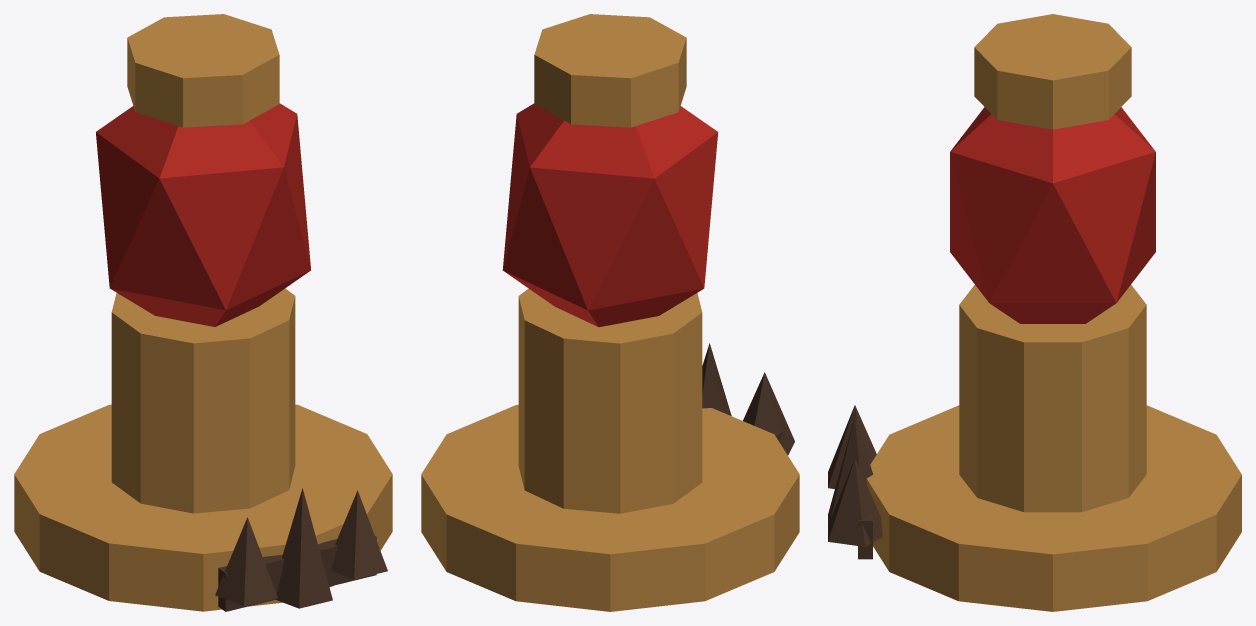
The model's file is royal_seal.glb.
3 views of the same model, side by side, from view 1: azimuth 30°, elevation 25°; view 2: azimuth 150°, elevation 25°; view 3: azimuth 270°, elevation 25° (orthographic).
Parts seen in each view (by area): view 1: SealFace, SealHandle, SealNeck, HandleCap, CrownPoint.001, CrownPoint, CrownPoint.002, CrownBase; view 2: SealFace, SealHandle, SealNeck, HandleCap, CrownPoint, CrownPoint.001; view 3: SealFace, SealHandle, SealNeck, HandleCap, CrownPoint.002, CrownPoint.001, CrownPoint.
Boxes of the visible parts, box(x1,y1,x2,y2) form: SealFace: box(14, 404, 392, 611); SealHandle: box(96, 103, 310, 326); SealNeck: box(111, 288, 295, 513); HandleCap: box(127, 14, 279, 127); CrownPoint.001: box(275, 488, 332, 608); CrownPoint: box(215, 517, 277, 606); CrownPoint.002: box(331, 490, 387, 579); CrownBase: box(218, 536, 376, 611); SealFace: box(421, 404, 799, 611); SealHandle: box(502, 103, 718, 327); SealNeck: box(518, 288, 702, 513); HandleCap: box(534, 14, 686, 127); CrownPoint: box(743, 372, 794, 455); CrownPoint.001: box(702, 343, 731, 415); SealFace: box(866, 405, 1241, 611); SealHandle: box(950, 107, 1155, 323); SealNeck: box(959, 285, 1146, 512); HandleCap: box(974, 14, 1131, 129); CrownPoint.002: box(828, 459, 882, 546); CrownPoint.001: box(828, 416, 873, 524); CrownPoint: box(828, 405, 876, 488).
Bounding box in the file's own units: 2.5 × 3.54 × 2.74.
